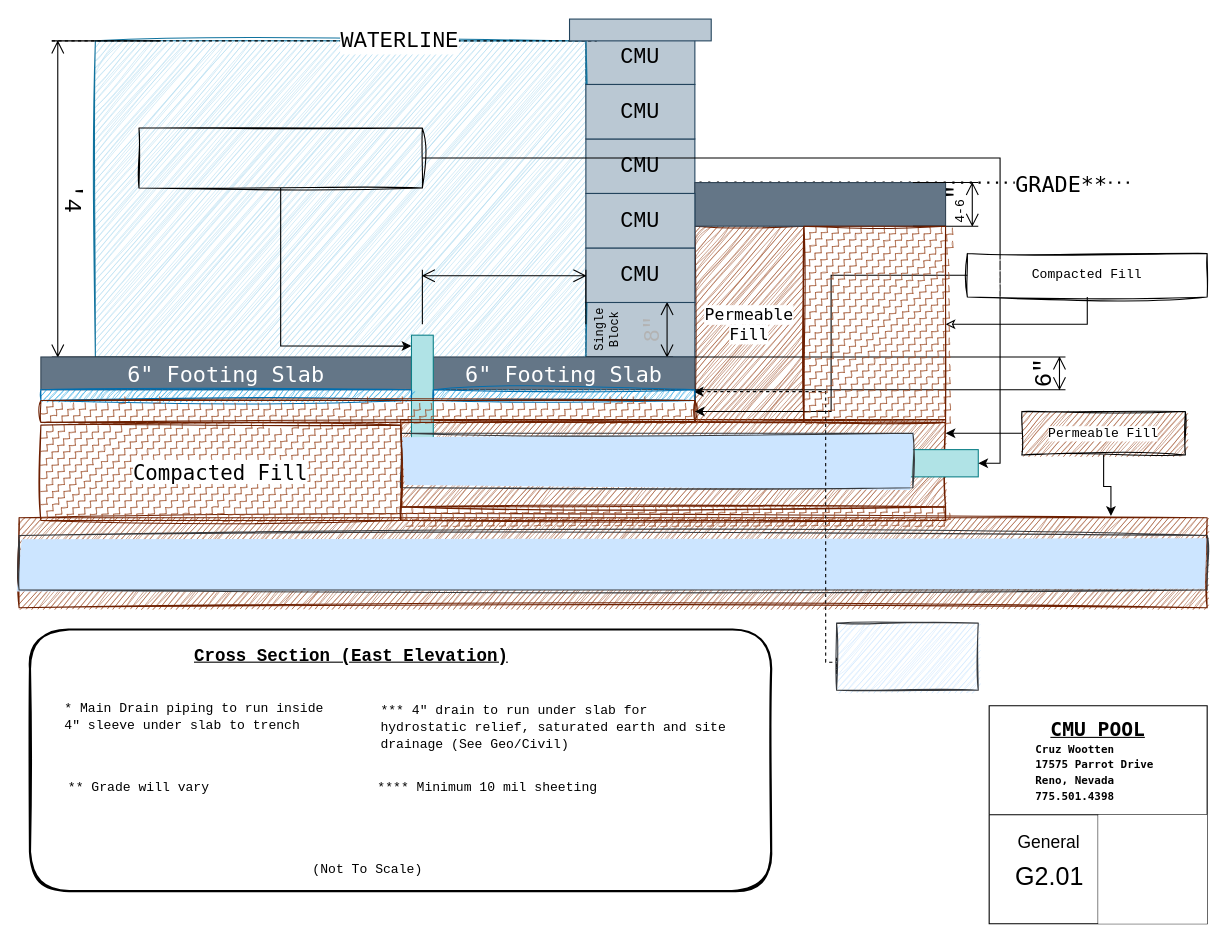
This 1226x944 diagram has some shape labels left out. Each missing label, with the box of its shape:
36" O.C.: (421, 269, 586, 324)
4" PERFORATED Drain ***: (18, 534, 1207, 590)
4" Sleeve for underslab plumbing: (399, 432, 913, 488)
Conc. Walkway: (694, 181, 946, 226)
Drawing Page 2 / X: (1098, 814, 1207, 923)
Main Drain 1" 1/4 SCH 40 PVC: (138, 127, 422, 188)
Top Block/Coping: (568, 18, 711, 41)
Vapor/Moisture Underlayment ****: (835, 622, 978, 690)
